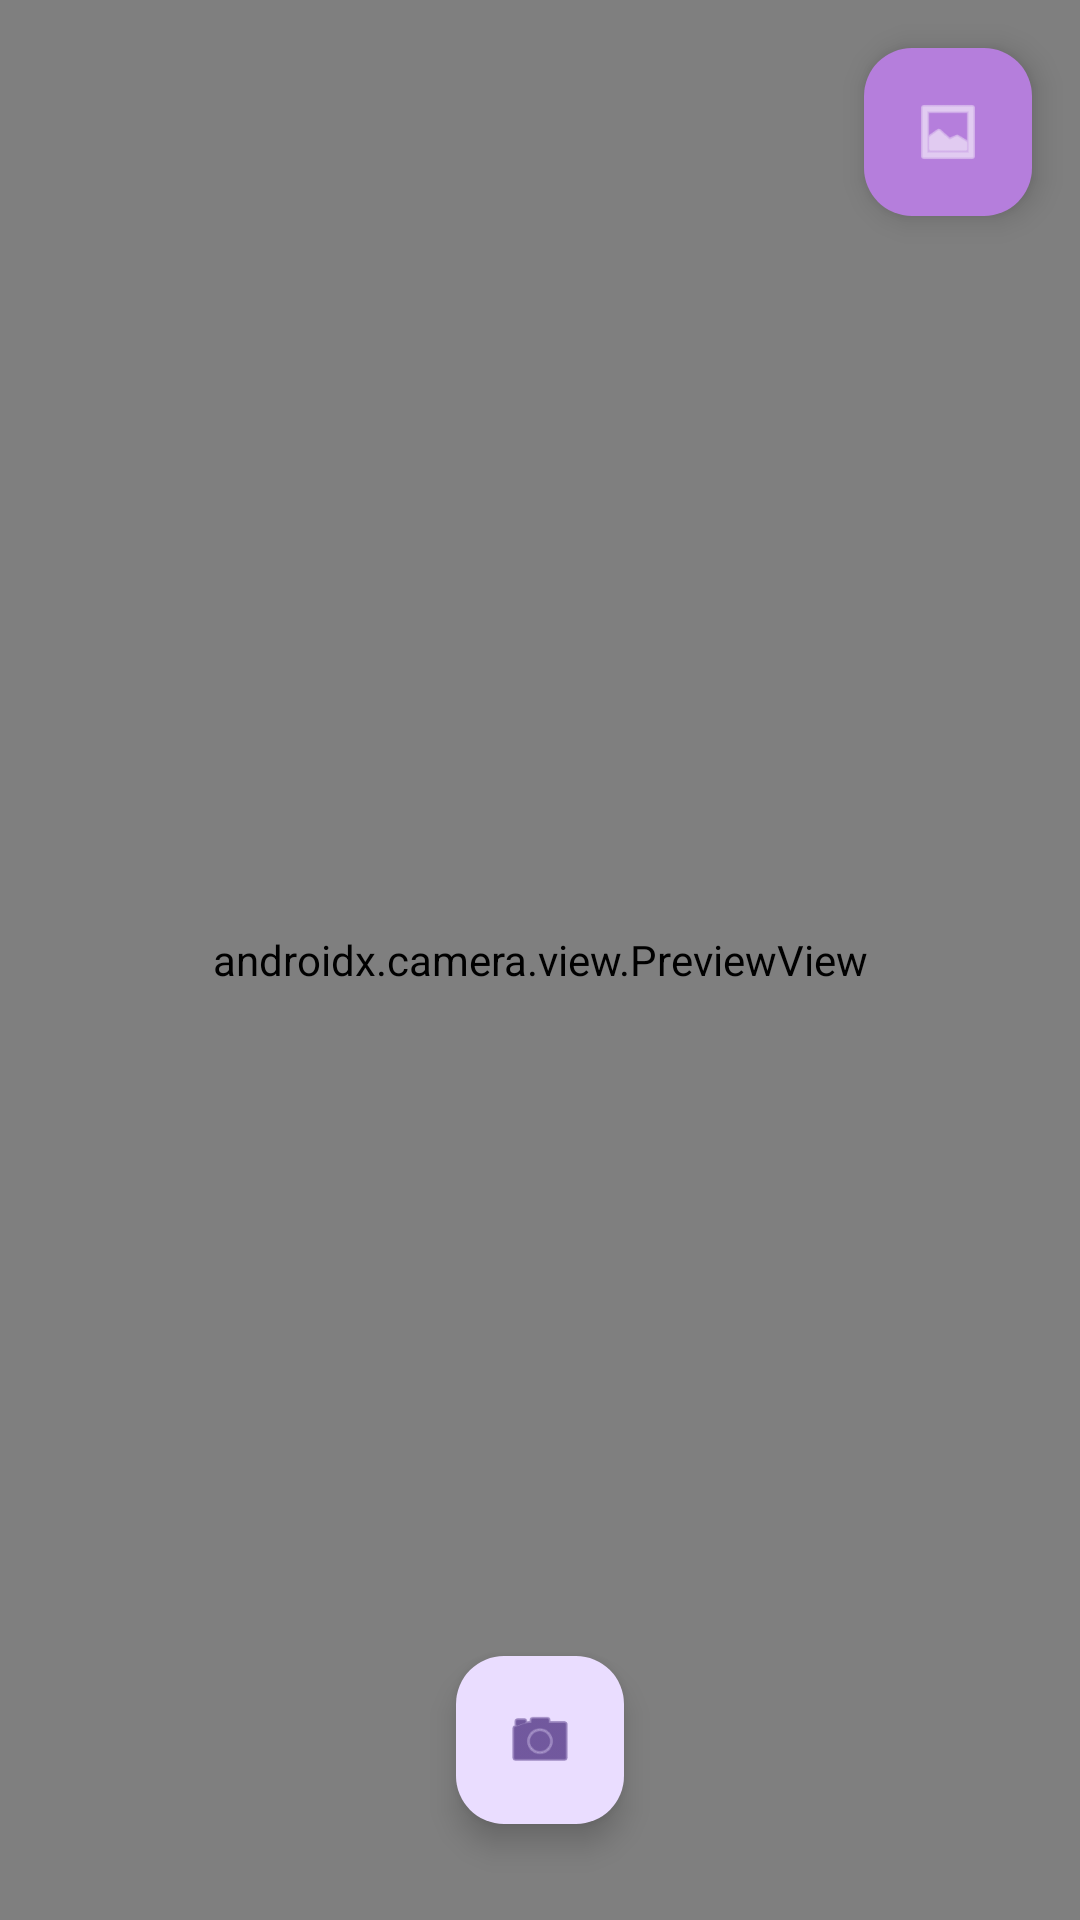

Point at icon controls on the screen. Image size 1080x1920, points as (x,y).
Take photo: (540,1740)
Выбрать из галереи: (948,132)
